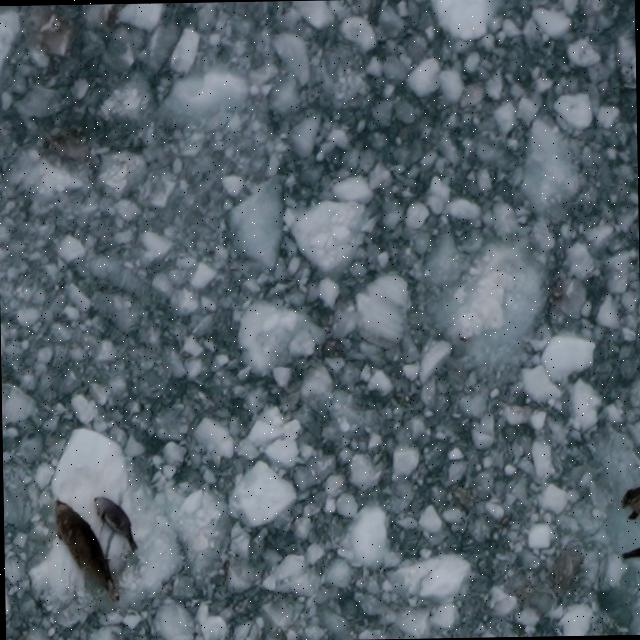seal: (49, 494, 119, 608), (90, 493, 142, 559)
